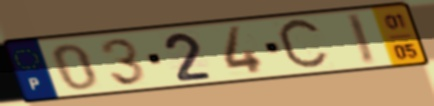0: (49, 42, 104, 92)
2: (160, 28, 219, 85)
3: (98, 37, 148, 86)
4: (222, 24, 267, 76)
C: (275, 15, 333, 74)
I: (342, 11, 379, 67)
